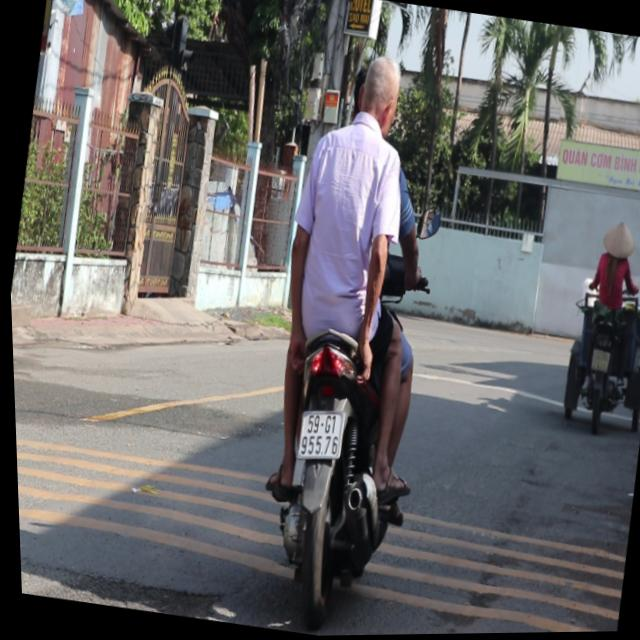licenseplate: (218, 42, 478, 637)
motorcyclist: (352, 53, 405, 141)
nohelmet: (292, 408, 343, 462)
